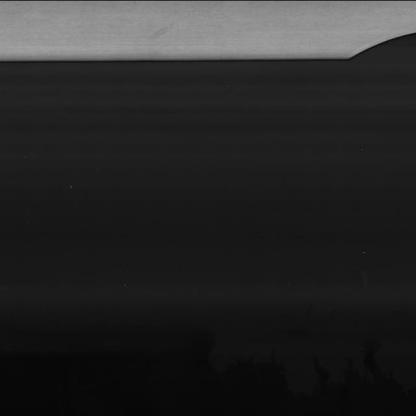crescent_gap: (335, 21, 413, 64)
